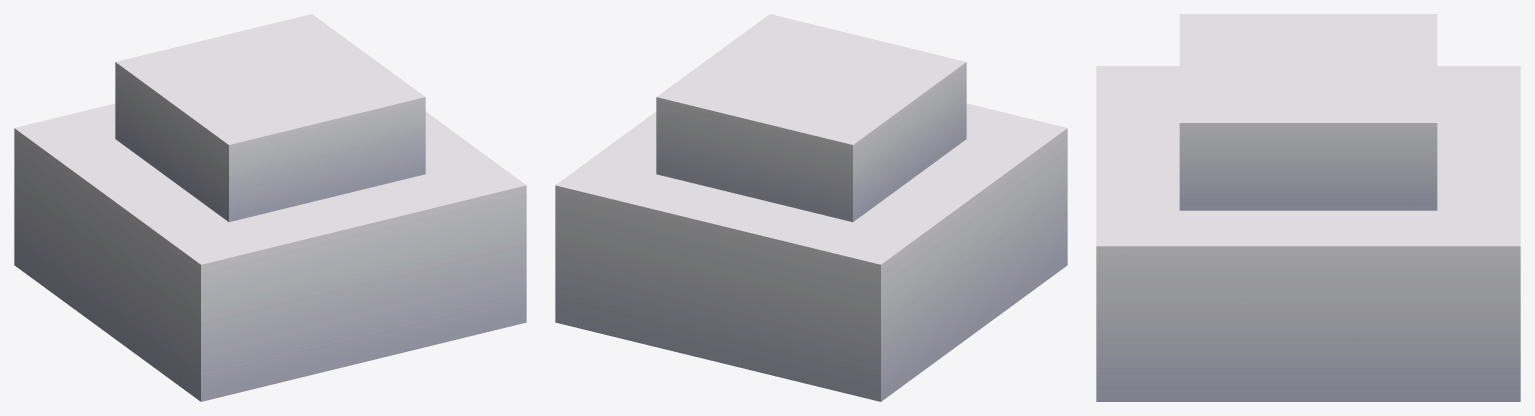
The model's file is square-lq-plate-1x1.glb.
The picture shows the model from 3 angles, left to right: view 1: azimuth 30°, elevation 25°; view 2: azimuth 150°, elevation 25°; view 3: azimuth 270°, elevation 25°; orthographic projection. The views are drawn at different scales.
Parts seen in each view (by area): view 1: square-lq-plate-1x1; view 2: square-lq-plate-1x1; view 3: square-lq-plate-1x1.
Boxes of the visible parts, x1,y1,x2,y2 form: square-lq-plate-1x1: (14, 14, 526, 401); square-lq-plate-1x1: (555, 14, 1067, 401); square-lq-plate-1x1: (1096, 14, 1520, 401).
Bounding box in the file's own units: 0.0795 × 0.05 × 0.079.
1 material, 1 textured.
